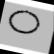no answer: (6, 7, 44, 38)
